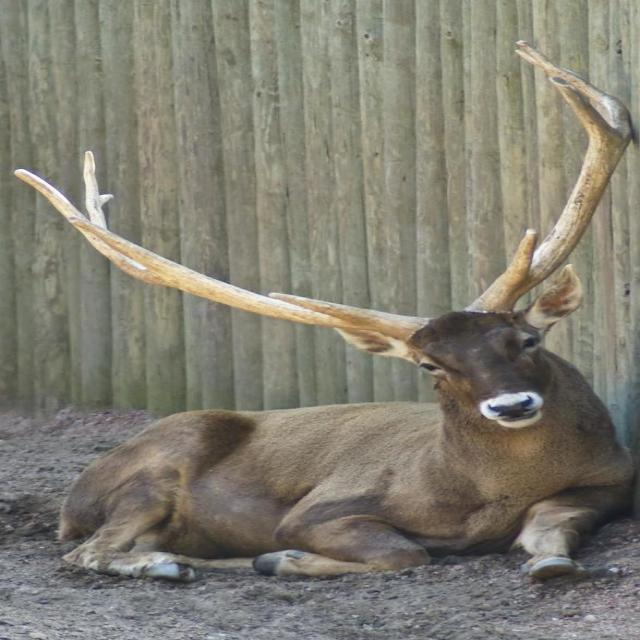deer: (31, 42, 640, 616)
